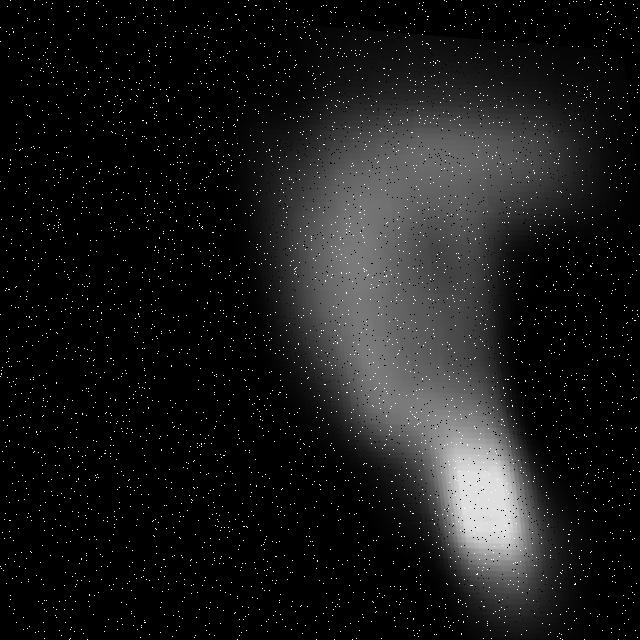person: (228, 29, 640, 640)
